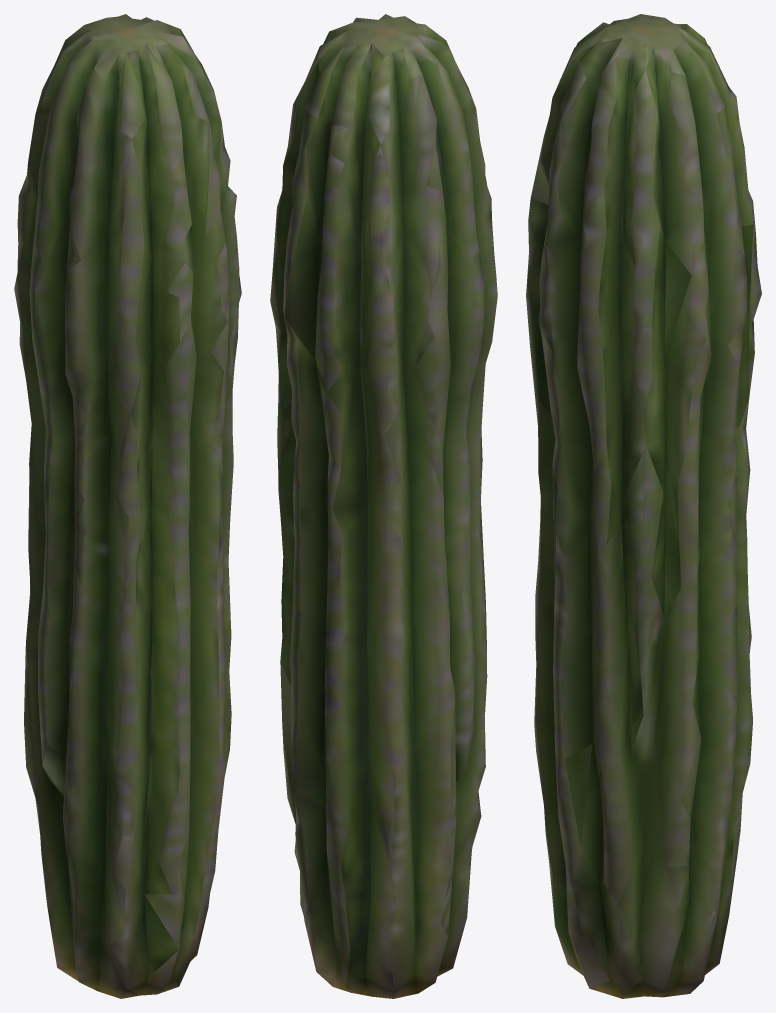
Rendered from saguaro_young.glb.
3 renders of one model, left to right at view 1: azimuth 30°, elevation 25°; view 2: azimuth 150°, elevation 25°; view 3: azimuth 270°, elevation 25°, orthographic.
Visible parts, largest first — view 1: LO.001; view 2: LO.001; view 3: LO.001.
Boxes of the visible parts, x1,y1,x2,y2 form: LO.001: (14, 14, 241, 998); LO.001: (270, 14, 497, 998); LO.001: (526, 14, 761, 998).
Bounding box in the file's own units: 0.3452 × 1.6 × 0.3578.
Materials: 1 (1 with a texture image).
